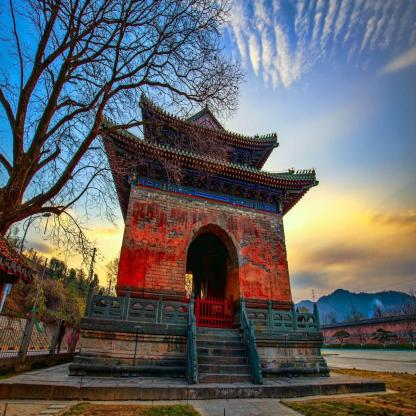other: (116, 172, 304, 316), (313, 204, 415, 254)
